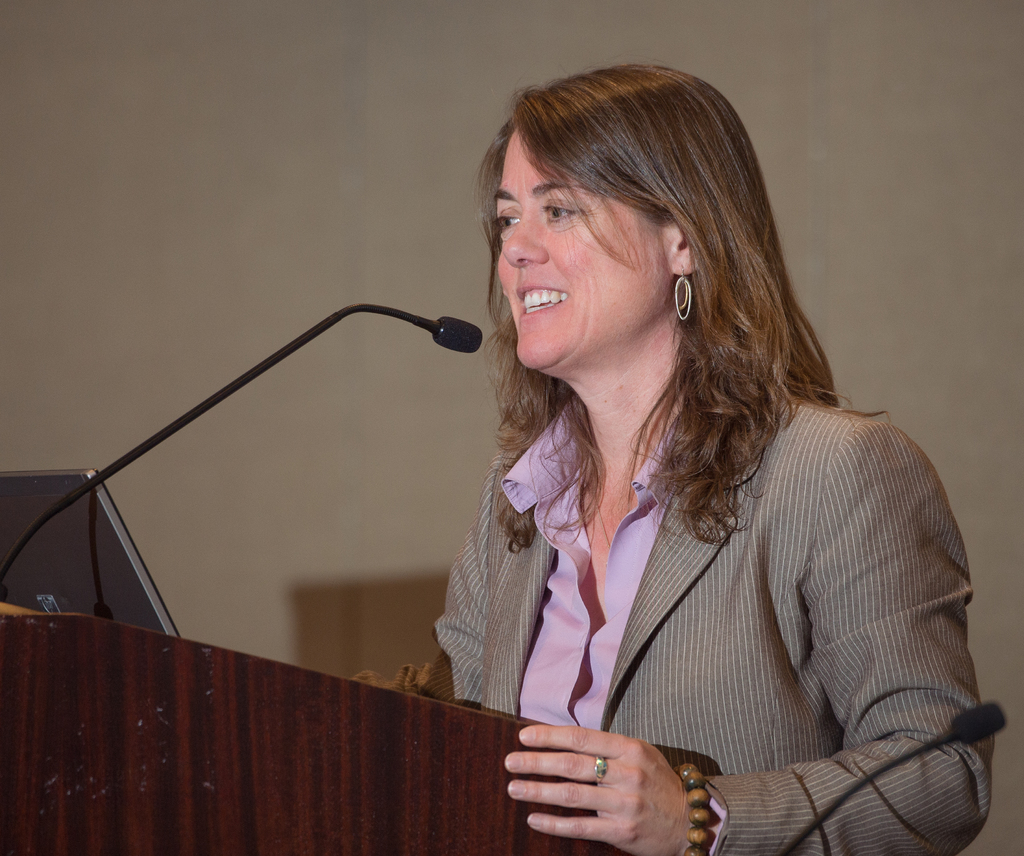Human-face: (497, 129, 675, 369)
